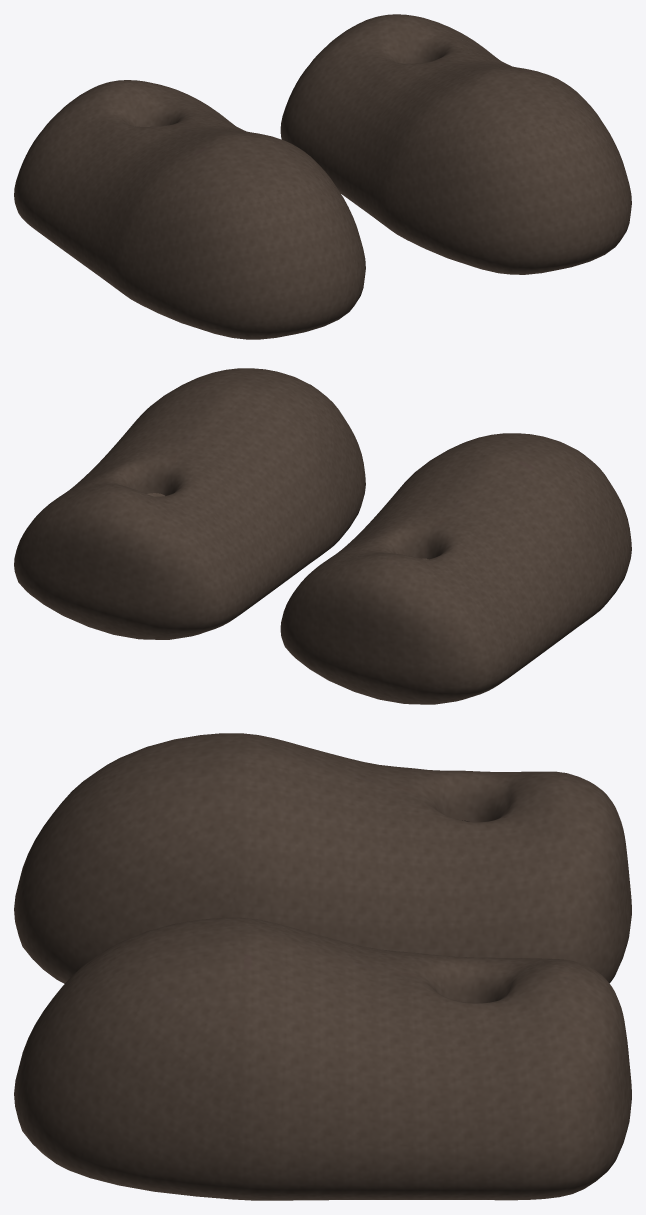
The model's file is Pig.glb.
The picture shows the model from 3 angles, top to bottom: view 1: azimuth 30°, elevation 25°; view 2: azimuth 150°, elevation 25°; view 3: azimuth 270°, elevation 25°; orthographic projection. The views are drawn at different scales.
Visible parts, largest first — view 1: Shoes2; view 2: Shoes2; view 3: Shoes2.
Boxes of the visible parts, x1=… form: Shoes2: x1=14, y1=14, x2=631, y2=339; Shoes2: x1=14, y1=368, x2=631, y2=704; Shoes2: x1=14, y1=733, x2=631, y2=1200.
Bounding box in the file's own units: 0.00515 × 0.0017 × 0.004.
Materials: 1 (1 with a texture image).
